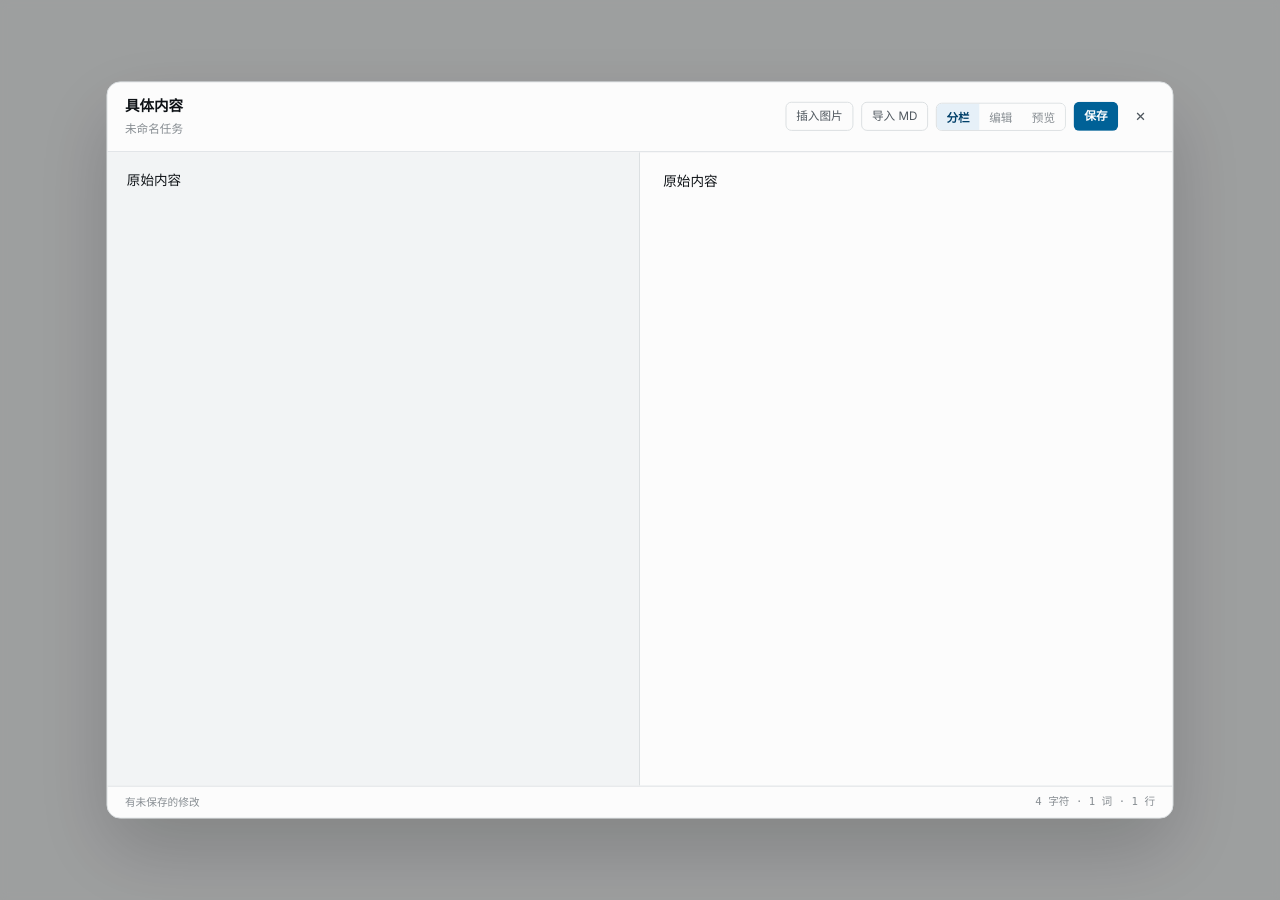
Test: ContentModal save failures › keeps the edited Markdown draft and shows a recoverable error when saving fails
The width and height of the screenshot is (1280, 900).
Replace the text in the text box with class "md-editor" with "保留这段草稿" at (374, 468), box [108,152,640,785]
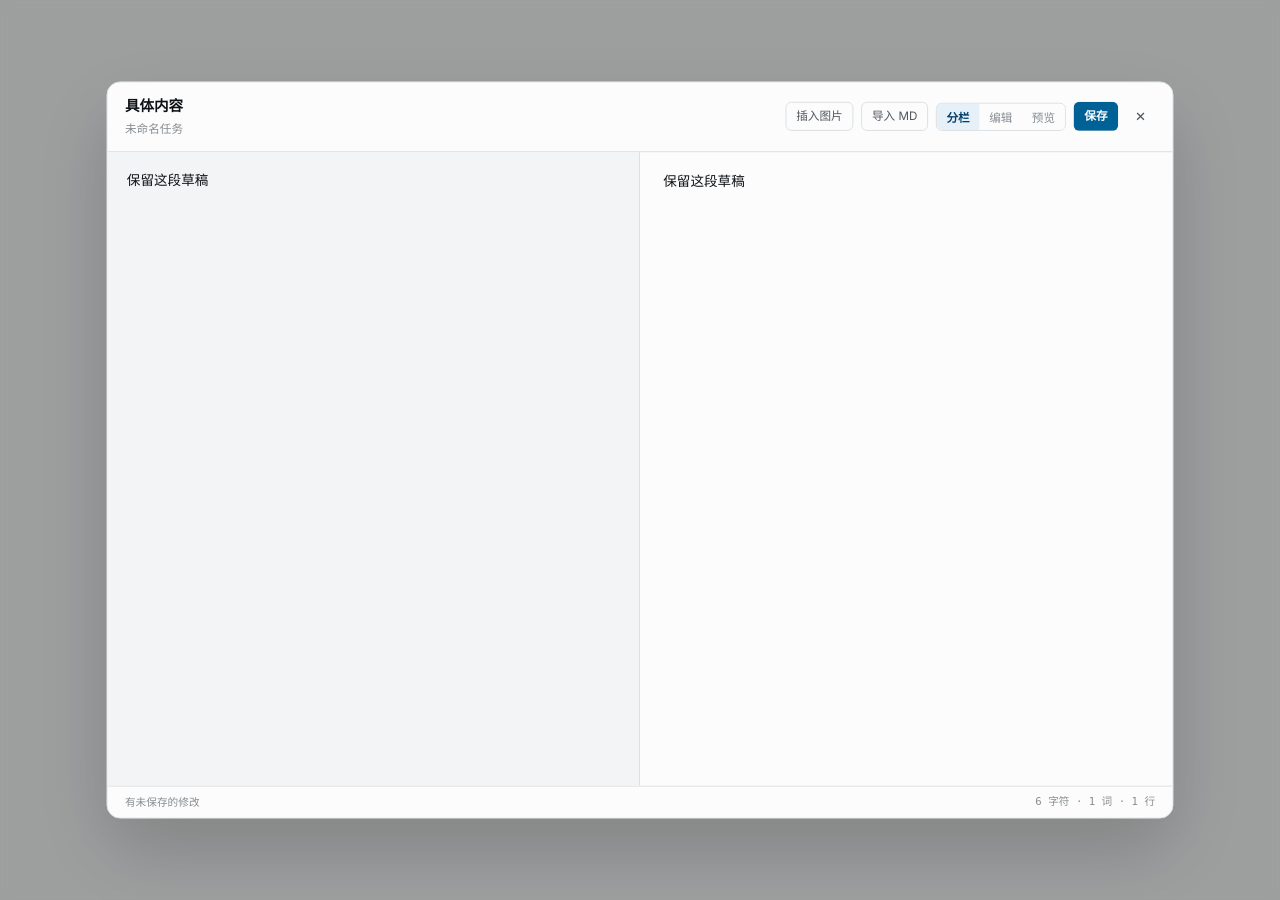
Click the button "保存" at (1096, 117), box [1074,102,1118,131]
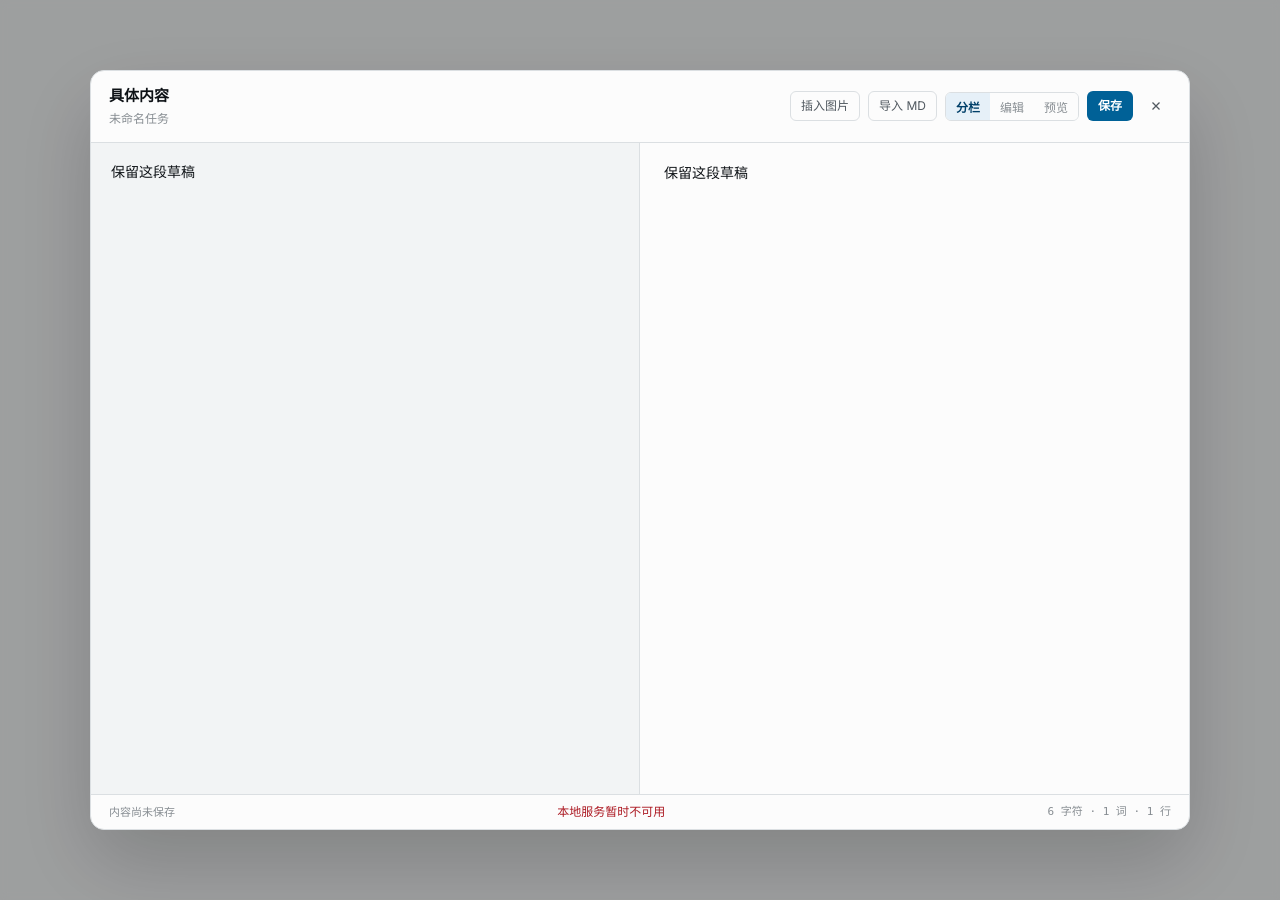
Expected: the message with class "save-error" reads "本地服务暂时不可用", [557,804,665,819]
